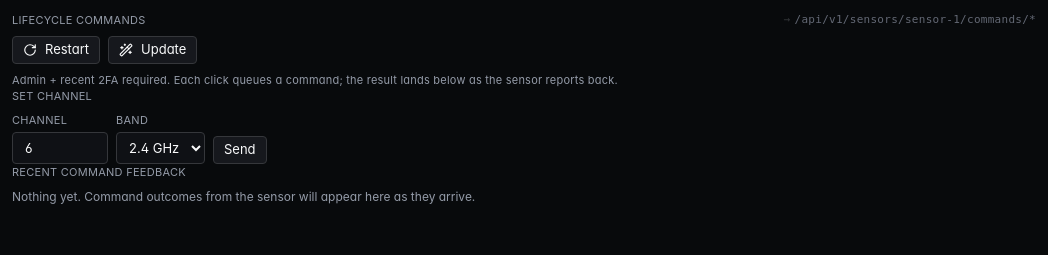
Test: SensorCommands › surfaces a 403 error inline when the backend rejects (admin/2FA missing)
The image size is (1048, 255).
Expected: the heading "Lifecycle commands" is shown, x1=12 y1=12 x2=146 y2=28
Click the button with aria-label "restart sensor" at [56, 50], box x1=12 y1=36 x2=100 y2=64
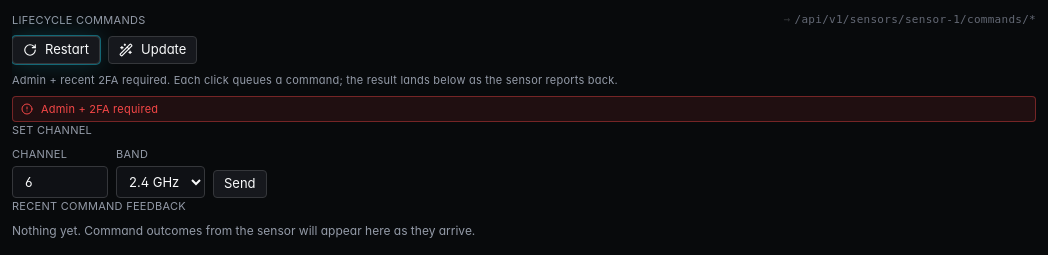
Now the text "Admin + 2FA required" is shown, box x1=12 y1=96 x2=1036 y2=122
